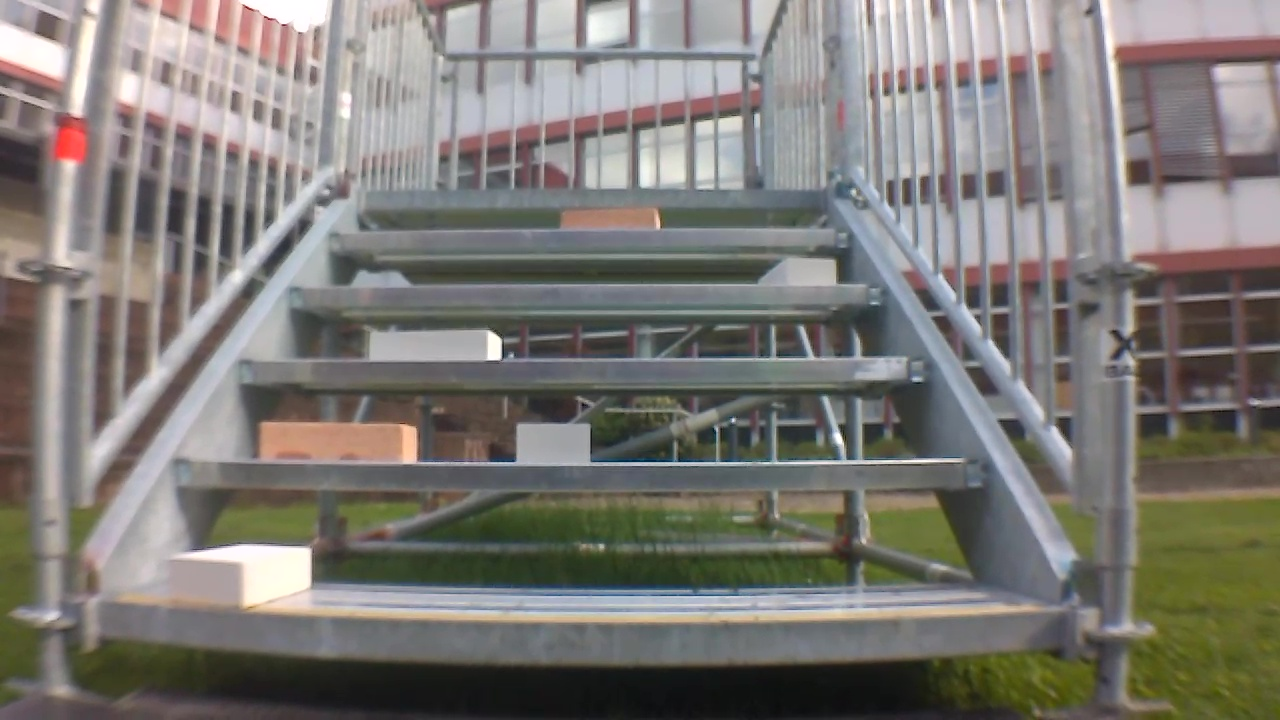brick: (171, 537, 317, 605), (253, 422, 421, 461), (365, 326, 509, 361), (514, 420, 587, 470), (753, 257, 840, 286), (556, 205, 665, 226)
edge: (91, 603, 1083, 655), (173, 457, 994, 491), (236, 354, 934, 391), (329, 225, 853, 251), (284, 285, 892, 307), (357, 189, 833, 208)
stairs: (35, 0, 1128, 705)
steps: (85, 186, 1109, 662)
